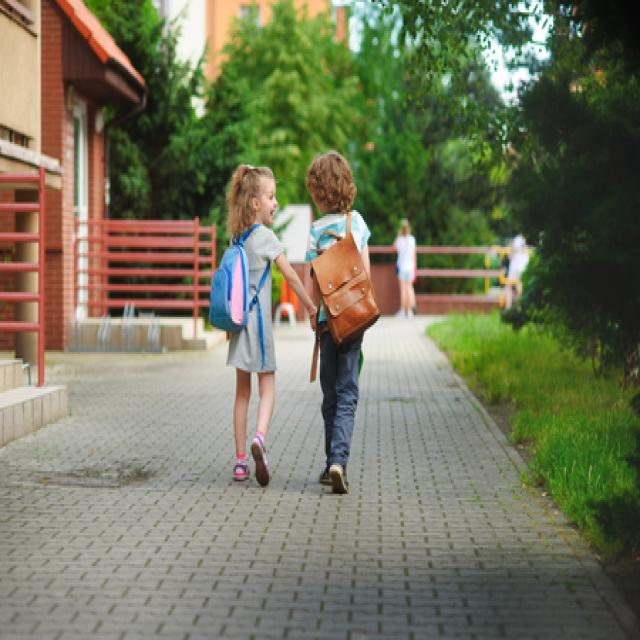Person: (209, 163, 317, 488), (305, 151, 380, 495)
